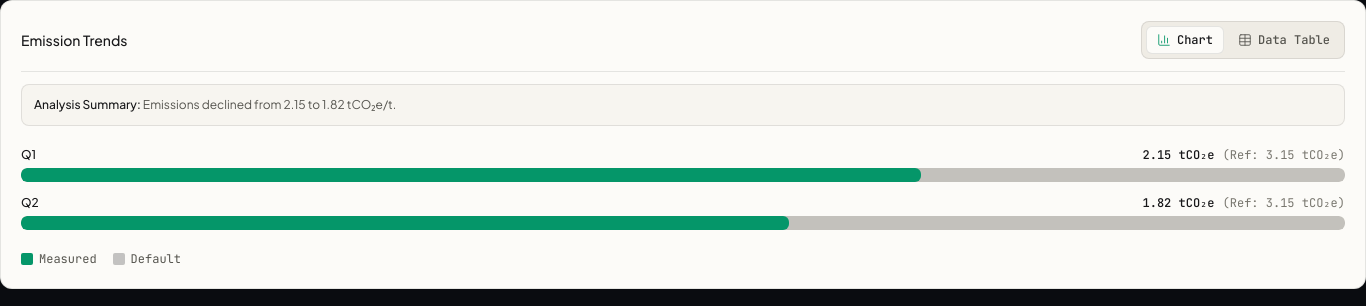
Prompt D5: Accessible Component Kit › renders LazyChart with accessible summary and toggles to HTML data table
Check: the heading "Emission Trends" is shown, box x1=21 y1=30 x2=128 y2=50
Check: the text "Emissions declined from 2.15 to 1.82" is shown, box x1=143 y1=97 x2=396 y2=112
Toggle to Data Table
Step 1. Click the button "Data Table" → (1284, 40), box x1=1228 y1=26 x2=1340 y2=54
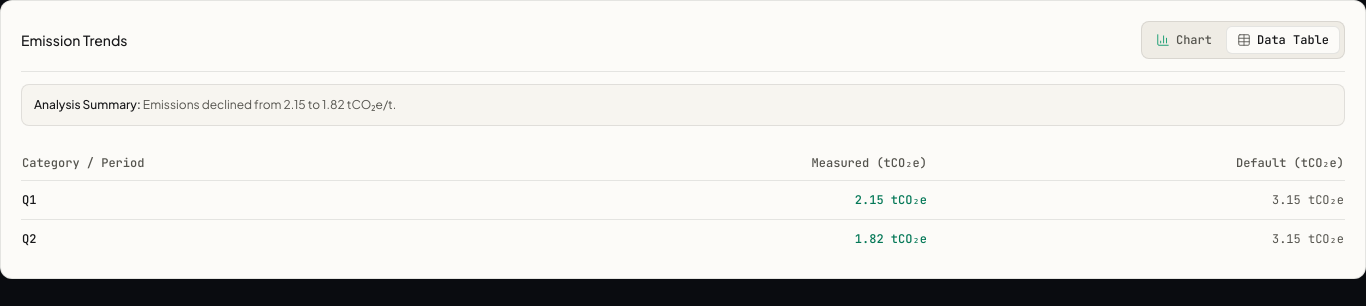
Check: the text "Q1" is shown, box x1=21 y1=180 x2=469 y2=219
Check: the table is shown, box x1=21 y1=146 x2=1345 y2=258
